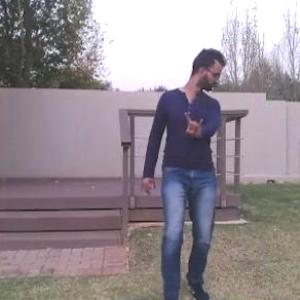takeoff-hand: (178, 104, 209, 140)
